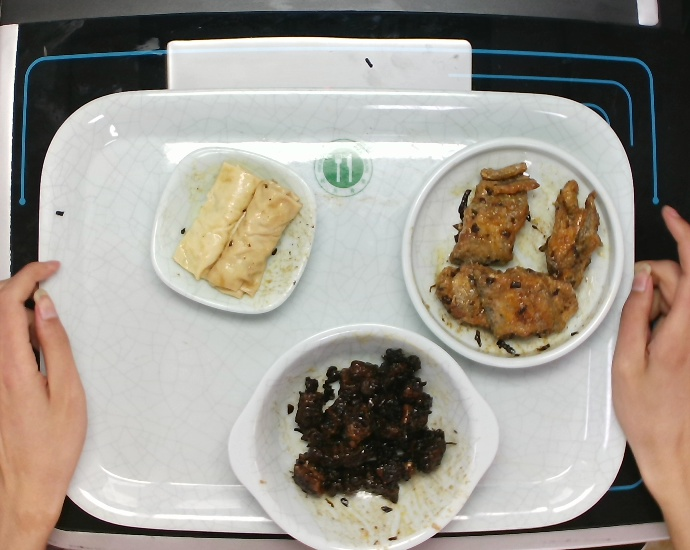JYsf-Shuang_Er_Wan: (224, 318, 502, 550)
JYsf-Si_Fang_Die: (145, 143, 318, 316)
JYsf-Xiao_Yuan_Pan: (399, 132, 627, 371)
